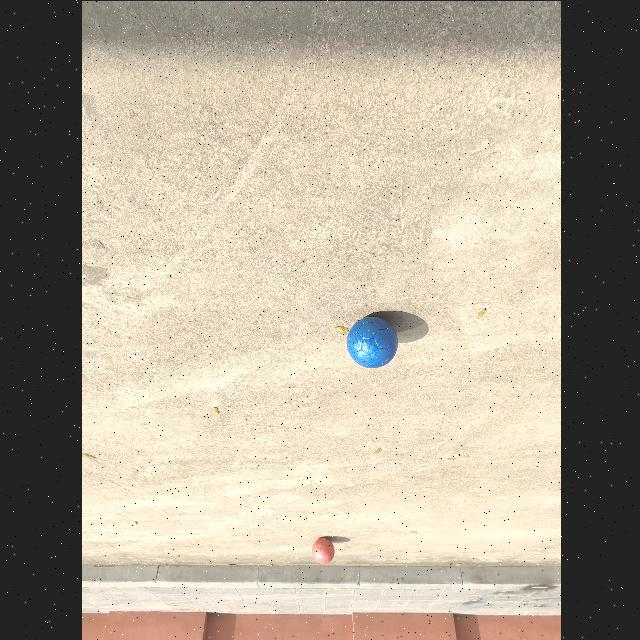B: (345, 315, 396, 367)
R: (311, 537, 333, 564)
